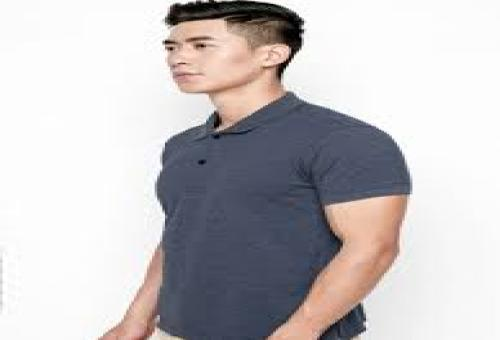person: (123, 89, 422, 334)
